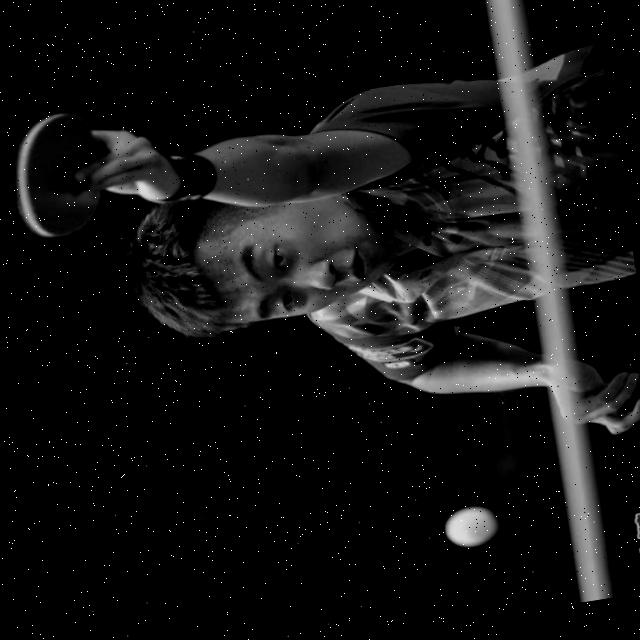ping-pong-ball: (435, 496, 506, 554)
